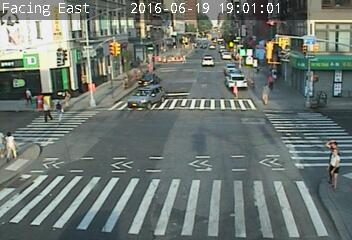neg: (310, 34, 337, 71), (80, 42, 107, 78), (289, 25, 309, 52), (161, 62, 179, 85), (251, 38, 267, 59), (227, 49, 241, 68), (199, 57, 210, 71), (60, 52, 71, 66)
pos: (320, 147, 351, 188), (50, 100, 68, 124), (38, 99, 55, 121), (259, 83, 275, 105), (21, 85, 36, 106), (225, 80, 238, 98)
